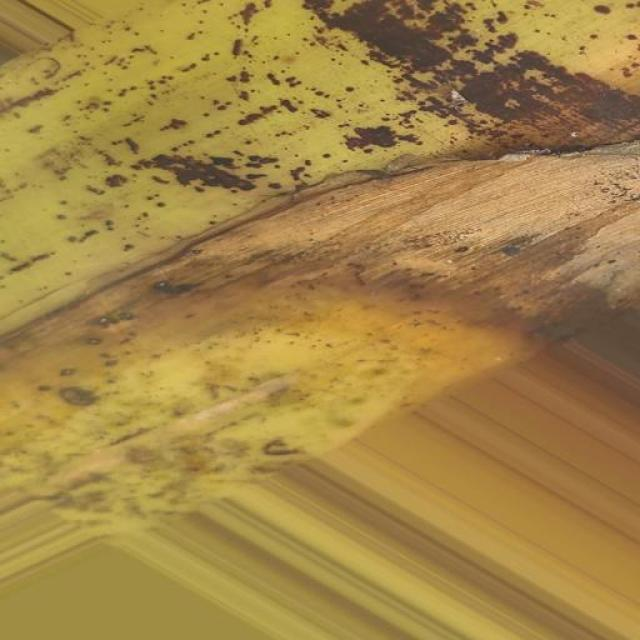Anthracnose: (4, 5, 640, 585)
